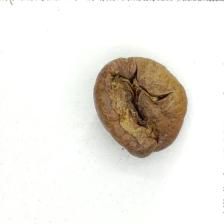NG: (105, 62, 170, 145)
